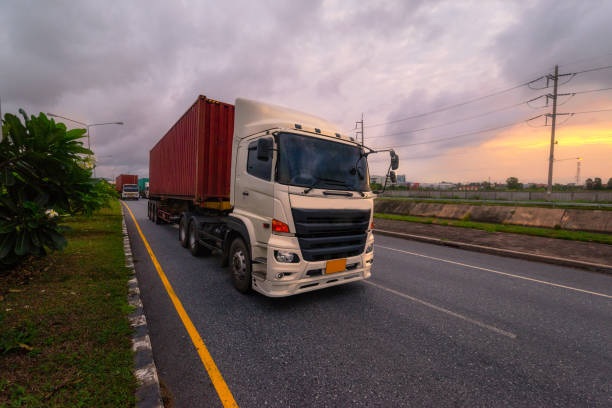Truck: (112, 168, 141, 203)
